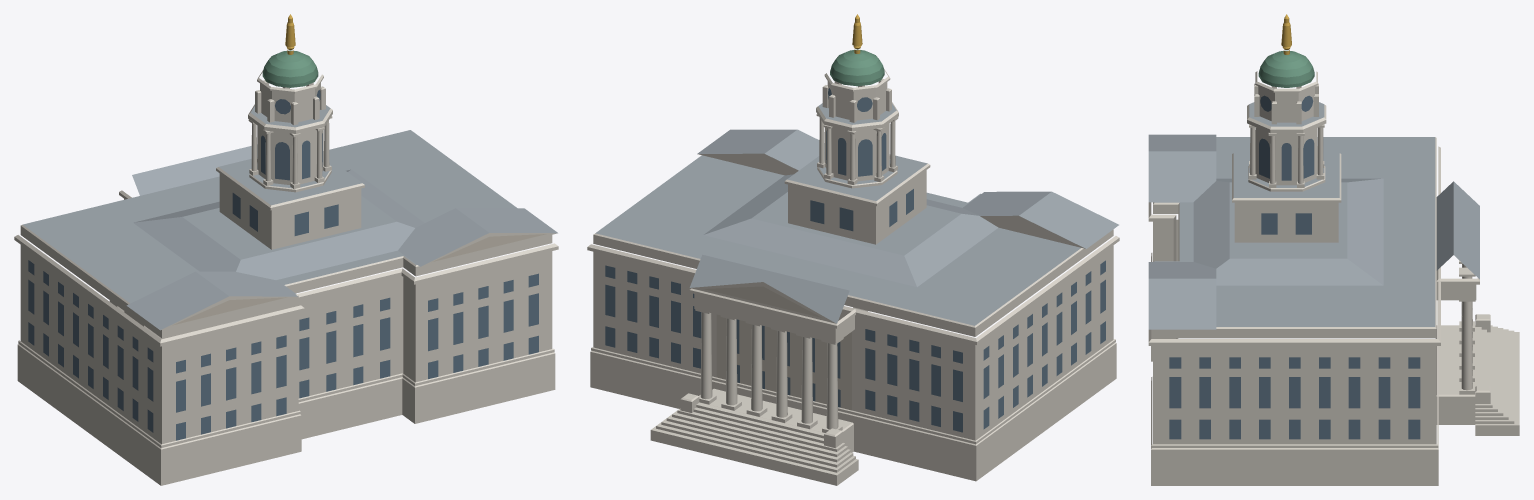
The model's file is nyc-brooklyn-borough-hall.glb.
The picture shows the model from 3 angles, left to right: view 1: azimuth 30°, elevation 25°; view 2: azimuth 150°, elevation 25°; view 3: azimuth 270°, elevation 25°; orthographic projection. The views are drawn at different scales.
Parts seen in each view (by area): view 1: Brooklyn Borough Hall; view 2: Brooklyn Borough Hall; view 3: Brooklyn Borough Hall.
Part boxes in pixels (bbox=[...]): Brooklyn Borough Hall: bbox=[14, 14, 558, 485]; Brooklyn Borough Hall: bbox=[587, 14, 1119, 485]; Brooklyn Borough Hall: bbox=[1148, 14, 1519, 485].
Size of the model in its own units: 51 by 45.8 by 41.05.
